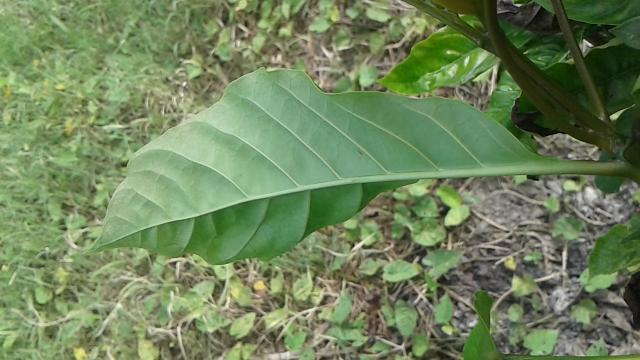healthy: (96, 70, 547, 262)
